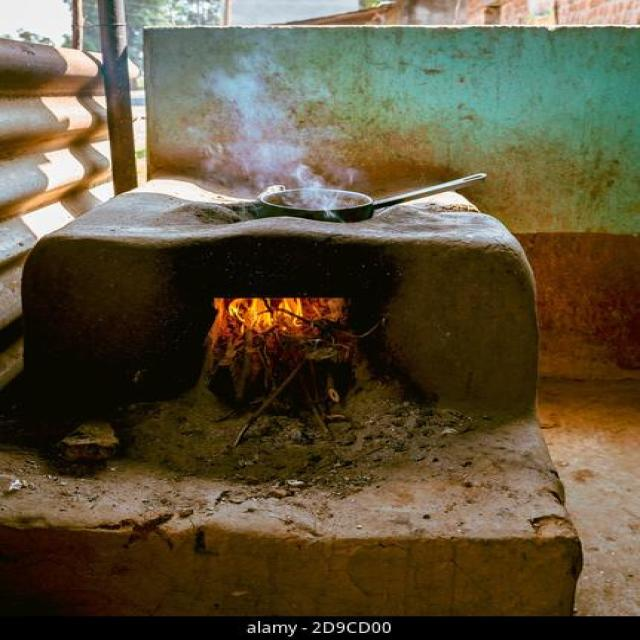fire: (213, 297, 344, 341)
